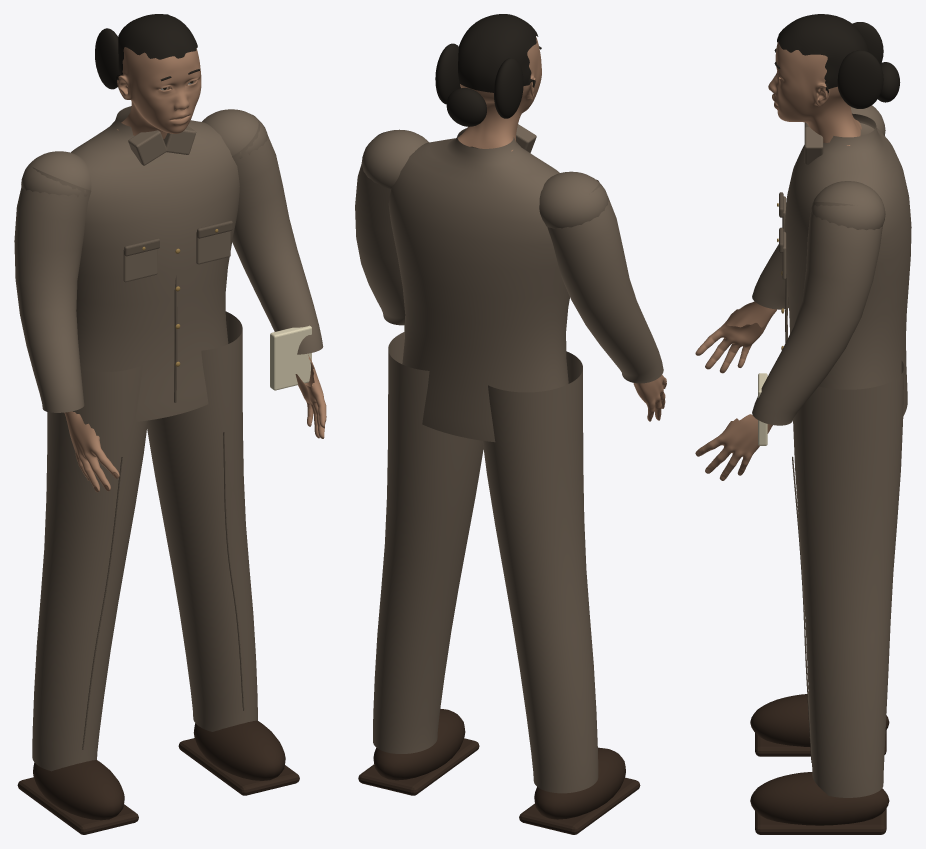
File: civilian.glb
3 renders of one model, left to right at view 1: azimuth 30°, elevation 25°; view 2: azimuth 150°, elevation 25°; view 3: azimuth 270°, elevation 25°, orthographic.
Parts seen in each view (by area): view 1: structured jacket, loose pressed trousers, loose pressed trousers.001, continuous long sleeve, continuous long sleeve.001, anatomical face neck and hands, closed leather shoe, closed leather shoe.001, shaped hair scalp, rounded shoulder seam, letter, rounded shoulder seam.001 (+9 smaller); view 2: structured jacket, loose pressed trousers, loose pressed trousers.001, continuous long sleeve, continuous long sleeve.001, shaped hair scalp, anatomical face neck and hands, rounded shoulder seam, closed leather shoe, closed leather shoe.001, rounded shoulder seam.001, shoe sole (+4 smaller); view 3: loose pressed trousers.001, structured jacket, continuous long sleeve.001, anatomical face neck and hands, closed leather shoe.001, shaped hair scalp, rounded shoulder seam.001, closed leather shoe, swept back hair.001, shoe sole.001, continuous long sleeve, shoe sole (+5 smaller).
Part boxes in pixels (x1=…): structured jacket: x1=71, y1=106, x2=239, y2=421; loose pressed trousers: x1=32, y1=365, x2=147, y2=771; loose pressed trousers.001: x1=147, y1=311, x2=257, y2=731; continuous long sleeve: x1=14, y1=167, x2=91, y2=412; continuous long sleeve.001: x1=232, y1=114, x2=323, y2=354; anatomical face neck and hands: x1=64, y1=47, x2=326, y2=492; closed leather shoe: x1=33, y1=760, x2=124, y2=820; closed leather shoe.001: x1=193, y1=720, x2=285, y2=780; shaped hair scalp: x1=115, y1=14, x2=197, y2=81; rounded shoulder seam: x1=21, y1=151, x2=91, y2=197; letter: x1=270, y1=325, x2=311, y2=390; rounded shoulder seam.001: x1=202, y1=109, x2=268, y2=158; structured jacket: x1=388, y1=128, x2=569, y2=442; loose pressed trousers: x1=482, y1=351, x2=598, y2=793; loose pressed trousers.001: x1=373, y1=331, x2=483, y2=753; continuous long sleeve: x1=547, y1=179, x2=663, y2=383; continuous long sleeve.001: x1=355, y1=132, x2=405, y2=325; shaped hair scalp: x1=458, y1=14, x2=538, y2=92; anatomical face neck and hands: x1=457, y1=37, x2=666, y2=421; rounded shoulder seam: x1=539, y1=171, x2=608, y2=228; closed leather shoe: x1=534, y1=747, x2=625, y2=819; closed leather shoe.001: x1=373, y1=708, x2=465, y2=780; rounded shoulder seam.001: x1=361, y1=129, x2=428, y2=188; shoe sole: x1=519, y1=777, x2=640, y2=834; loose pressed trousers.001: x1=793, y1=361, x2=904, y2=797; structured jacket: x1=784, y1=113, x2=911, y2=415; continuous long sleeve.001: x1=752, y1=202, x2=882, y2=425; anatomical face neck and hands: x1=695, y1=41, x2=861, y2=480; closed leather shoe.001: x1=750, y1=772, x2=889, y2=825; shaped hair scalp: x1=777, y1=14, x2=868, y2=92; rounded shoulder seam.001: x1=810, y1=181, x2=885, y2=230; closed leather shoe: x1=750, y1=694, x2=889, y2=746; swept back hair.001: x1=837, y1=50, x2=883, y2=108; shoe sole.001: x1=755, y1=808, x2=886, y2=834; continuous long sleeve: x1=752, y1=244, x2=788, y2=309; shoe sole: x1=755, y1=730, x2=886, y2=756.
Bounding box in the file's own units: 0.6494 × 1.74 × 0.4436.
